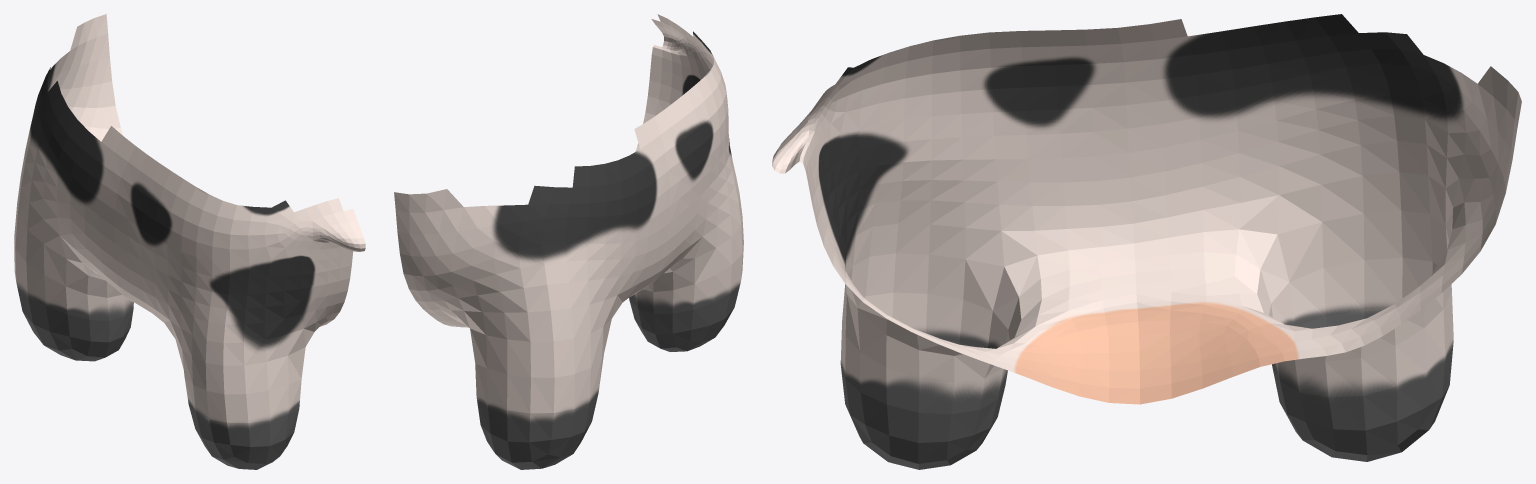
File: test_multitexture_obj_IO_Q3.obj
3 renders of one model, left to right at view 1: azimuth 30°, elevation 25°; view 2: azimuth 150°, elevation 25°; view 3: azimuth 270°, elevation 25°, orthographic. The views are drawn at different scales.
Bounding box in the file's own units: 0.3874 × 0.7954 × 1.29.
Materials: 1 (1 with a texture image).
